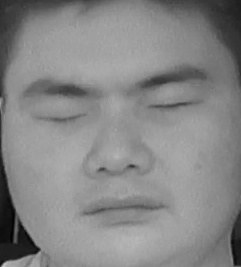blink: (147, 87, 199, 123), (36, 101, 90, 135)
mouth: (72, 181, 168, 233)
